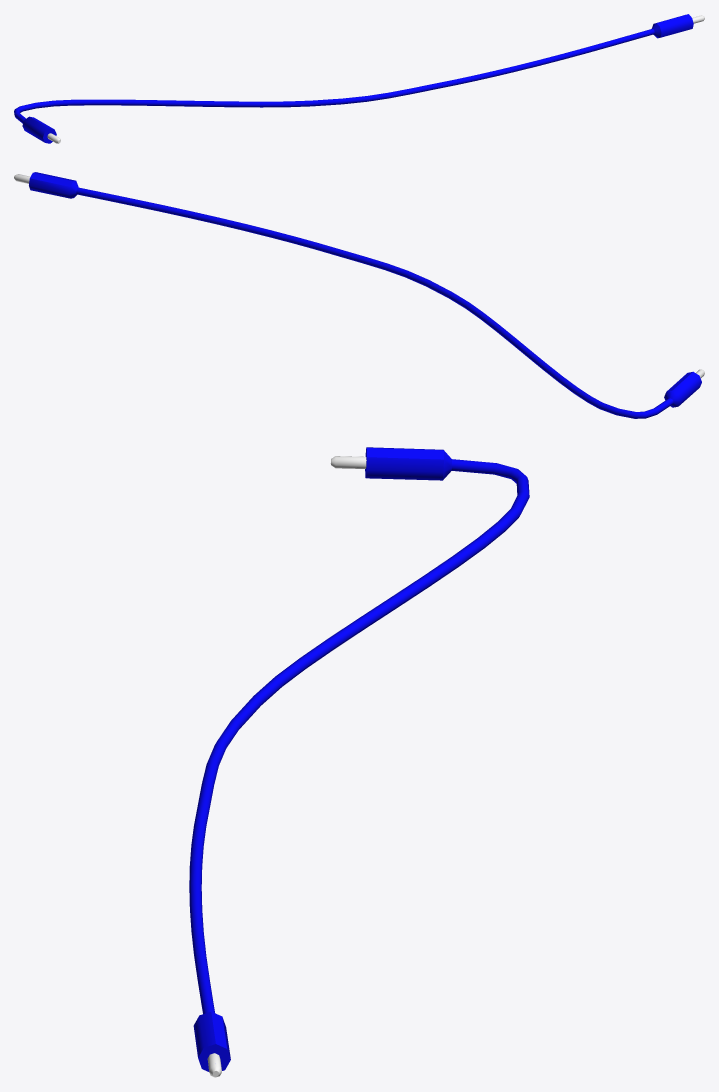
Rendered from ElectroWires07_3.FBX.
3 views of the same model, one above another, from view 1: azimuth 30°, elevation 25°; view 2: azimuth 150°, elevation 25°; view 3: azimuth 270°, elevation 25° (orthographic). The views are drawn at different scales.
Visible parts, largest first — view 1: Wires07; view 2: Wires07; view 3: Wires07.
Part boxes in pixels (bbox=[...]): Wires07: bbox=[14, 14, 704, 143]; Wires07: bbox=[14, 172, 704, 418]; Wires07: bbox=[189, 447, 529, 1077].
Bounding box in the file's own units: 121 × 3.61 × 28.44.
